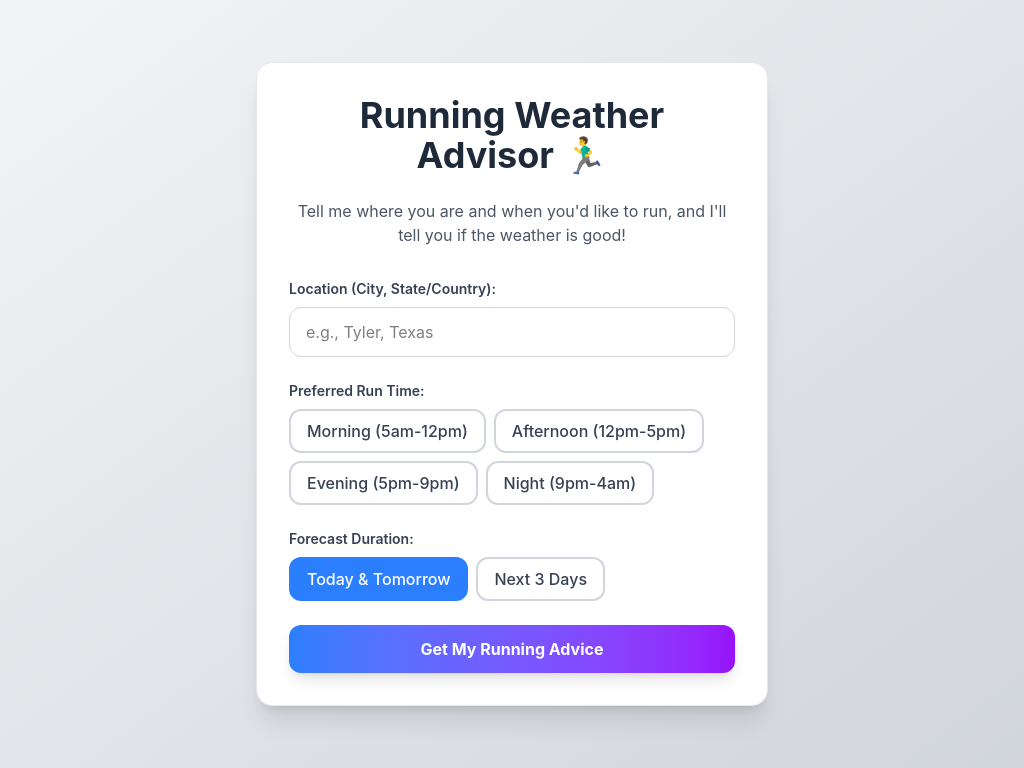
App Integration › shows loading spinner when fetching data
In the field labelled "Location (City, State/Country):": [512, 332] box [289,307,735,357], type "Test City"
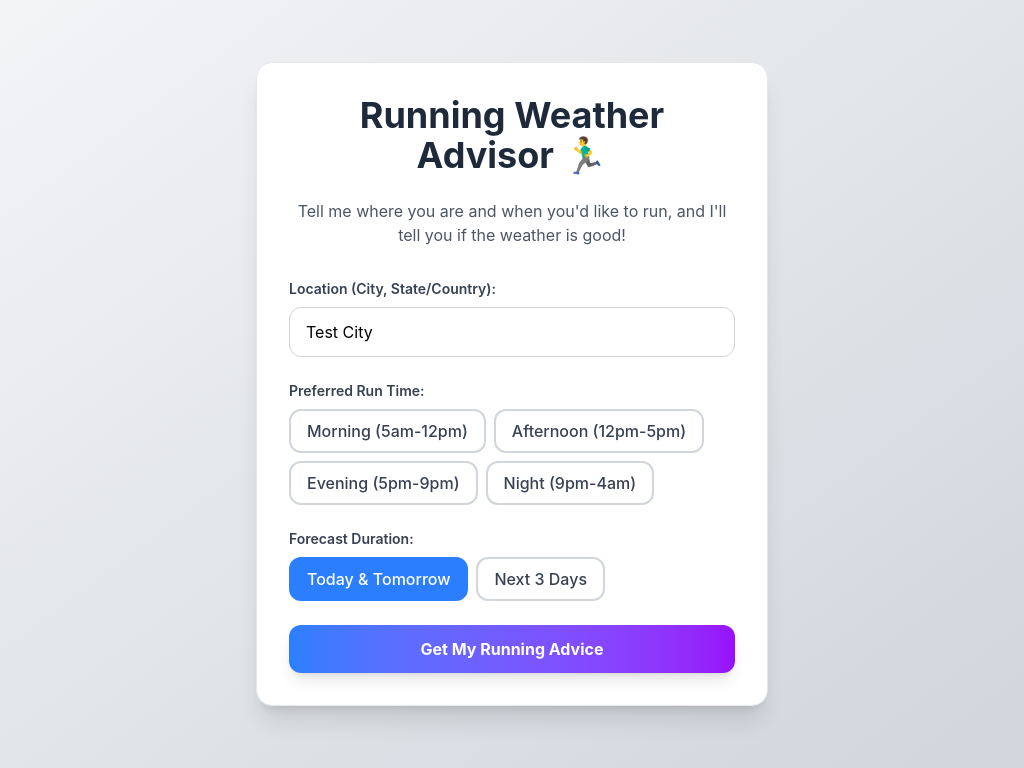
Click the button "Morning (5am-12pm)": [387, 431] box [289,409,486,453]
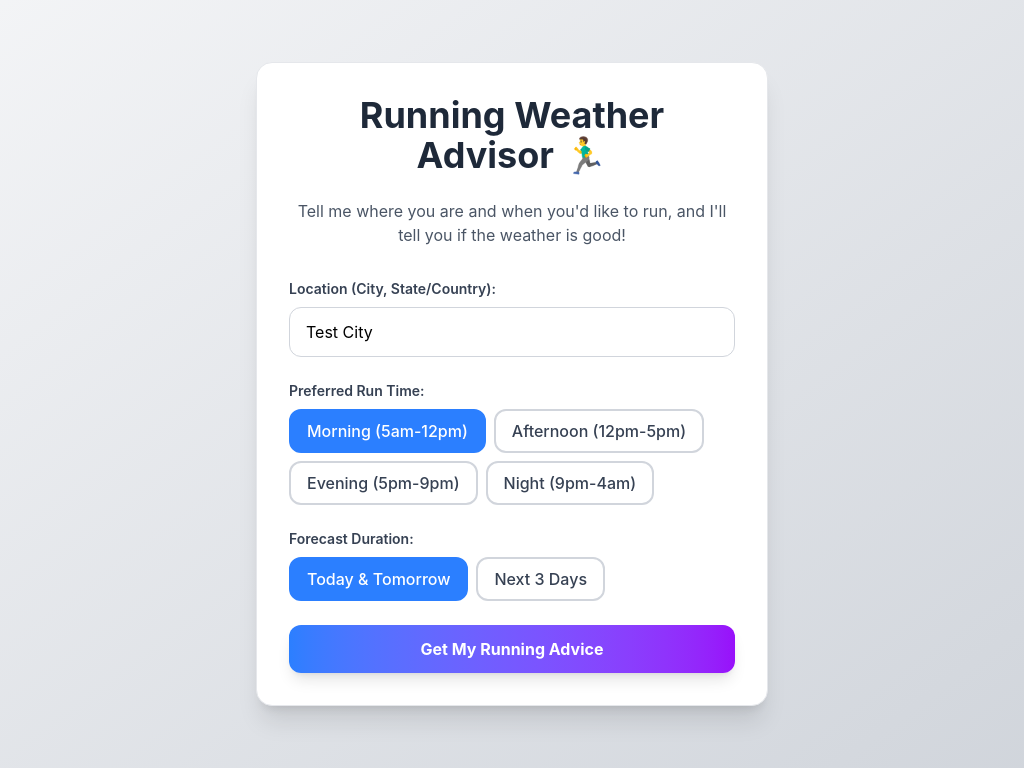
Click the button "Get My Running Advice": [512, 649] box [289,625,735,673]
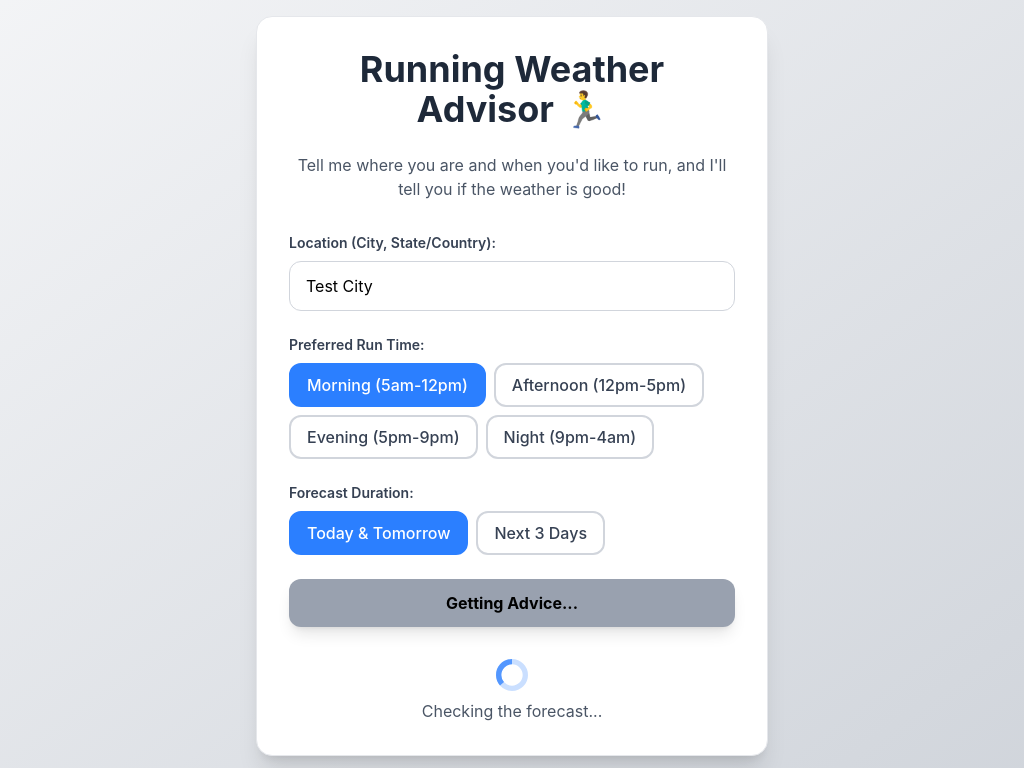
expect the text "Checking the forecast..." is shown: met, box [422,701,602,721]
expect the button "Getting Advice..." is shown: met, box [289,579,735,627]
